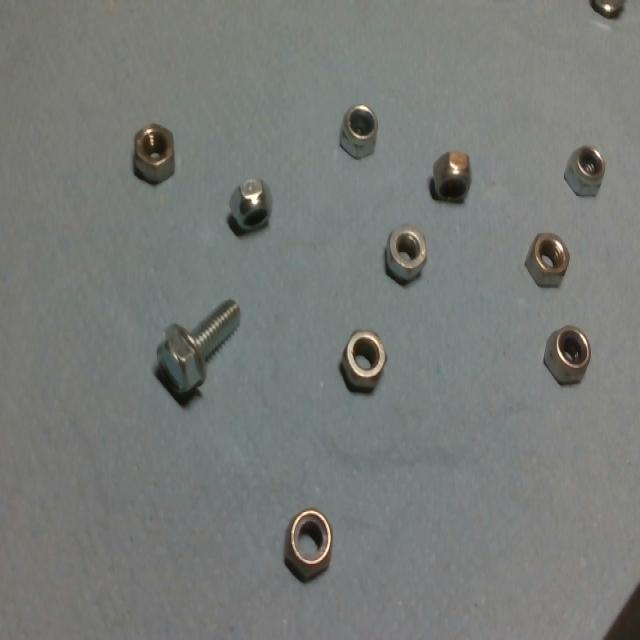Bolt: (154, 299, 251, 400)
Nut: (278, 502, 345, 588), (119, 118, 188, 188), (330, 100, 393, 168), (337, 329, 393, 402), (516, 224, 574, 294), (542, 317, 598, 388), (423, 144, 478, 216), (377, 226, 435, 286), (563, 134, 613, 198), (228, 176, 275, 244)
